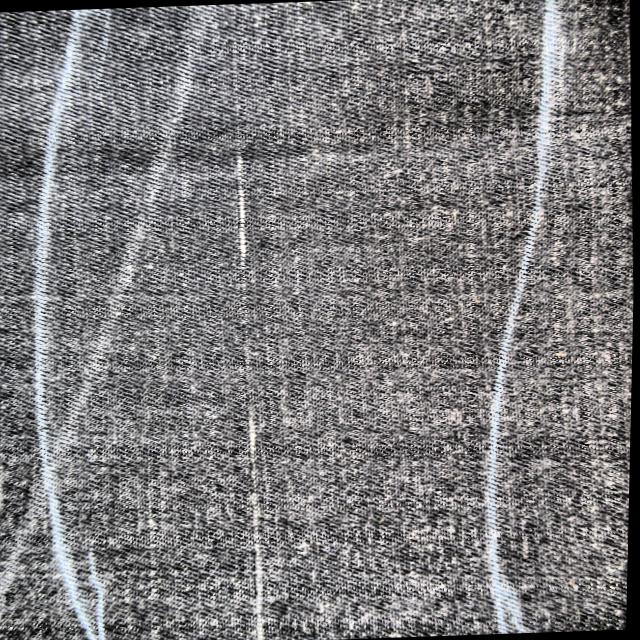Hole: (197, 376, 282, 484), (204, 166, 280, 280)
